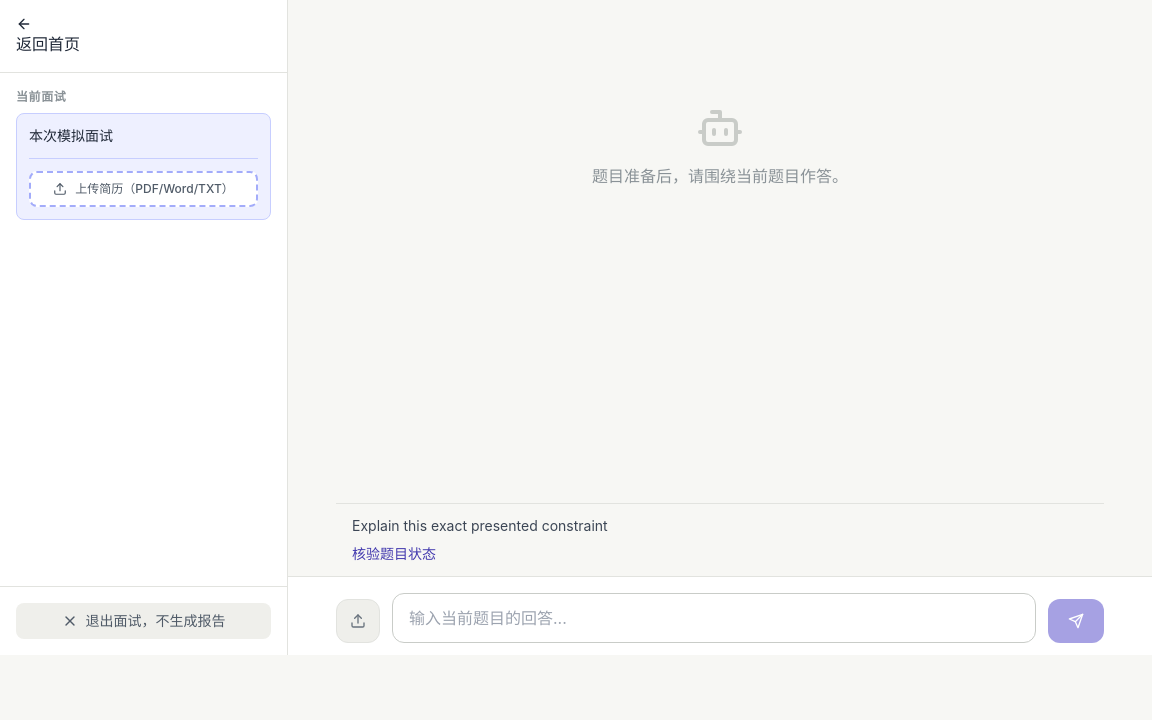
bounds after-stream GET headers at ten seconds and rejects late recovery
Type "Synthetic bounded answer" into the text box at {"x": 714, "y": 618}, box x1=392 y1=593 x2=1036 y2=643
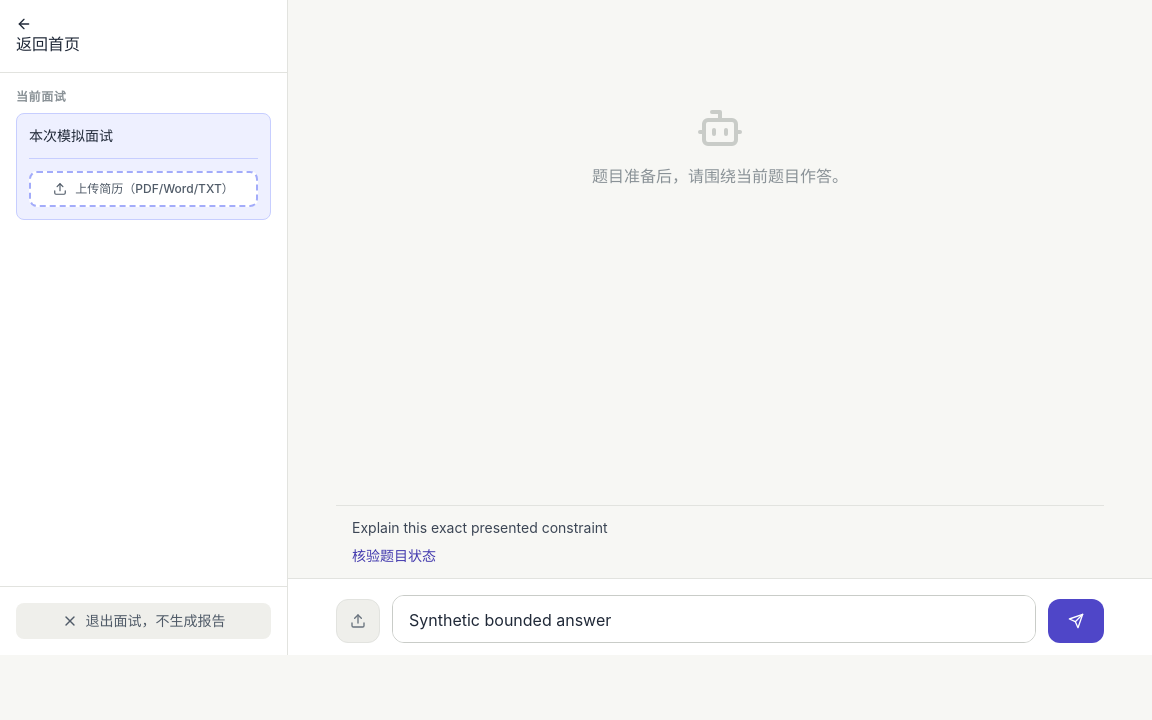
Press Enter in the text box, box x1=392 y1=595 x2=1036 y2=643
Wait 10000 ms
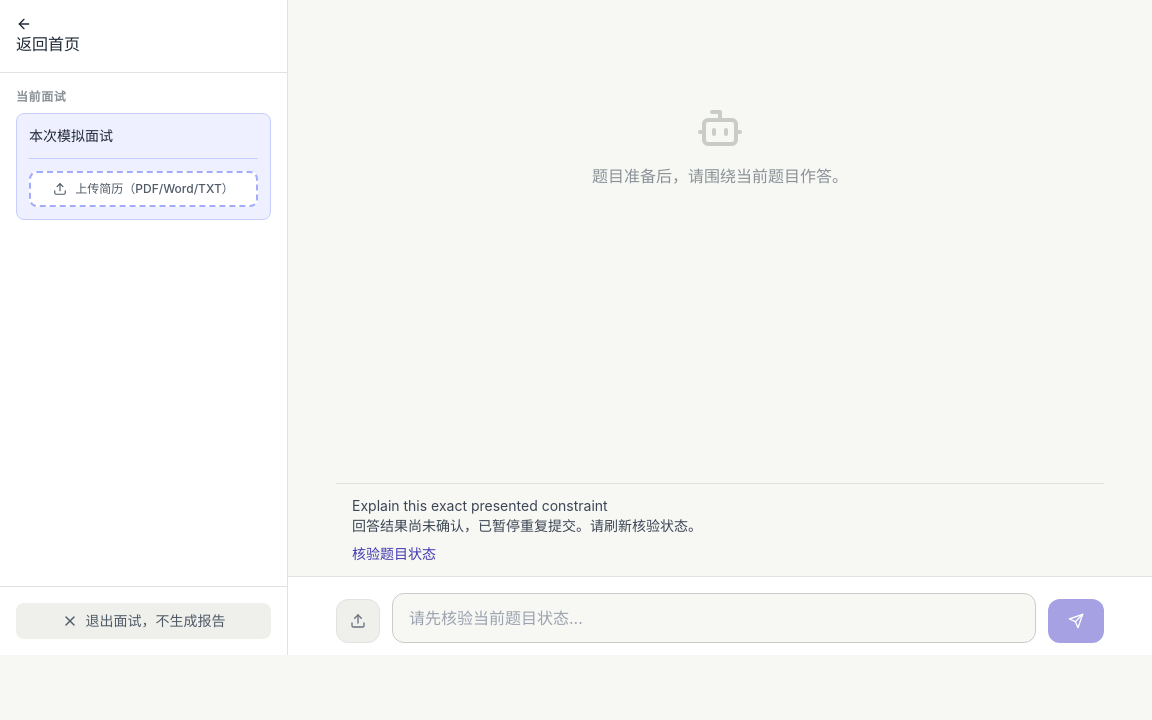
Expected: the message shows "尚未确认", x1=352 y1=517 x2=702 y2=534
Expected: the text box is disabled, x1=392 y1=593 x2=1036 y2=643
